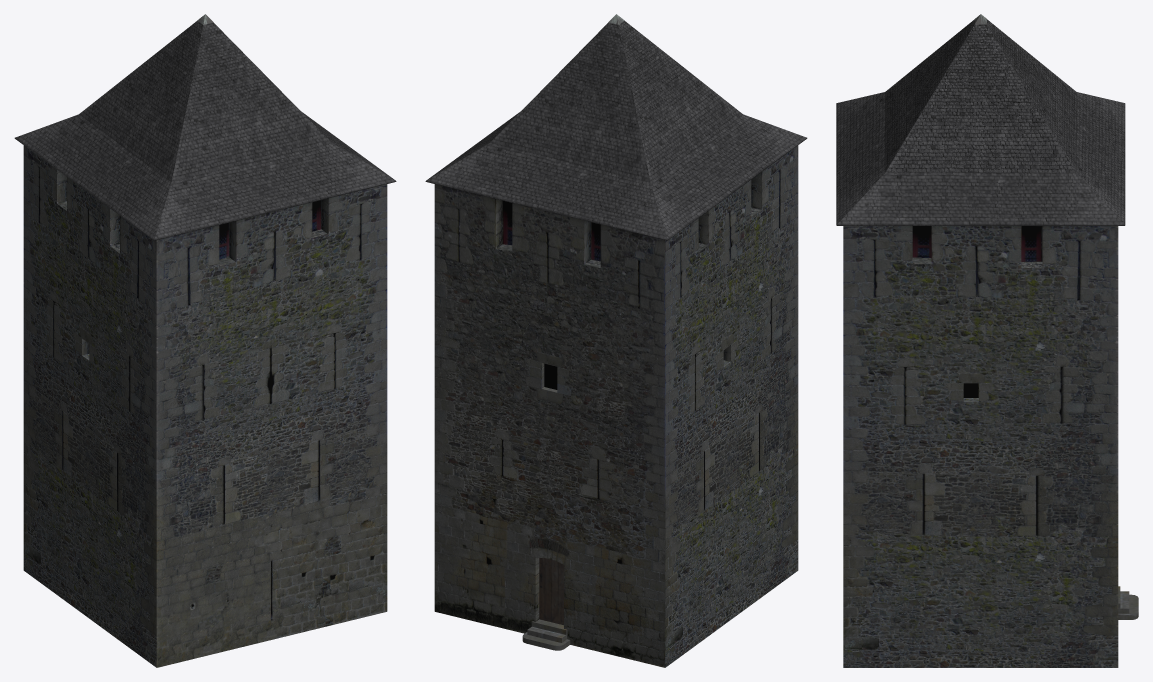
File: Fougeres Square Tower 3D Model.glb
3 views of the same model, side by side, from view 1: azimuth 30°, elevation 25°; view 2: azimuth 150°, elevation 25°; view 3: azimuth 270°, elevation 25° (orthographic). The views are drawn at different scales.
Parts seen in each view (by area): view 1: square tower; view 2: square tower; view 3: square tower.
Boxes of the visible parts, x1,y1,x2,y2 form: square tower: [14, 14, 396, 667]; square tower: [425, 14, 807, 667]; square tower: [836, 14, 1138, 667].
Size of the model in its own units: 7.88 by 17.94 by 8.24.
1 material, 1 textured.
